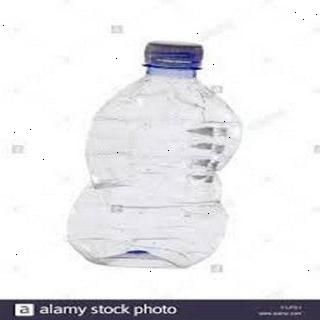Plastic-bottle: (60, 39, 254, 277)
